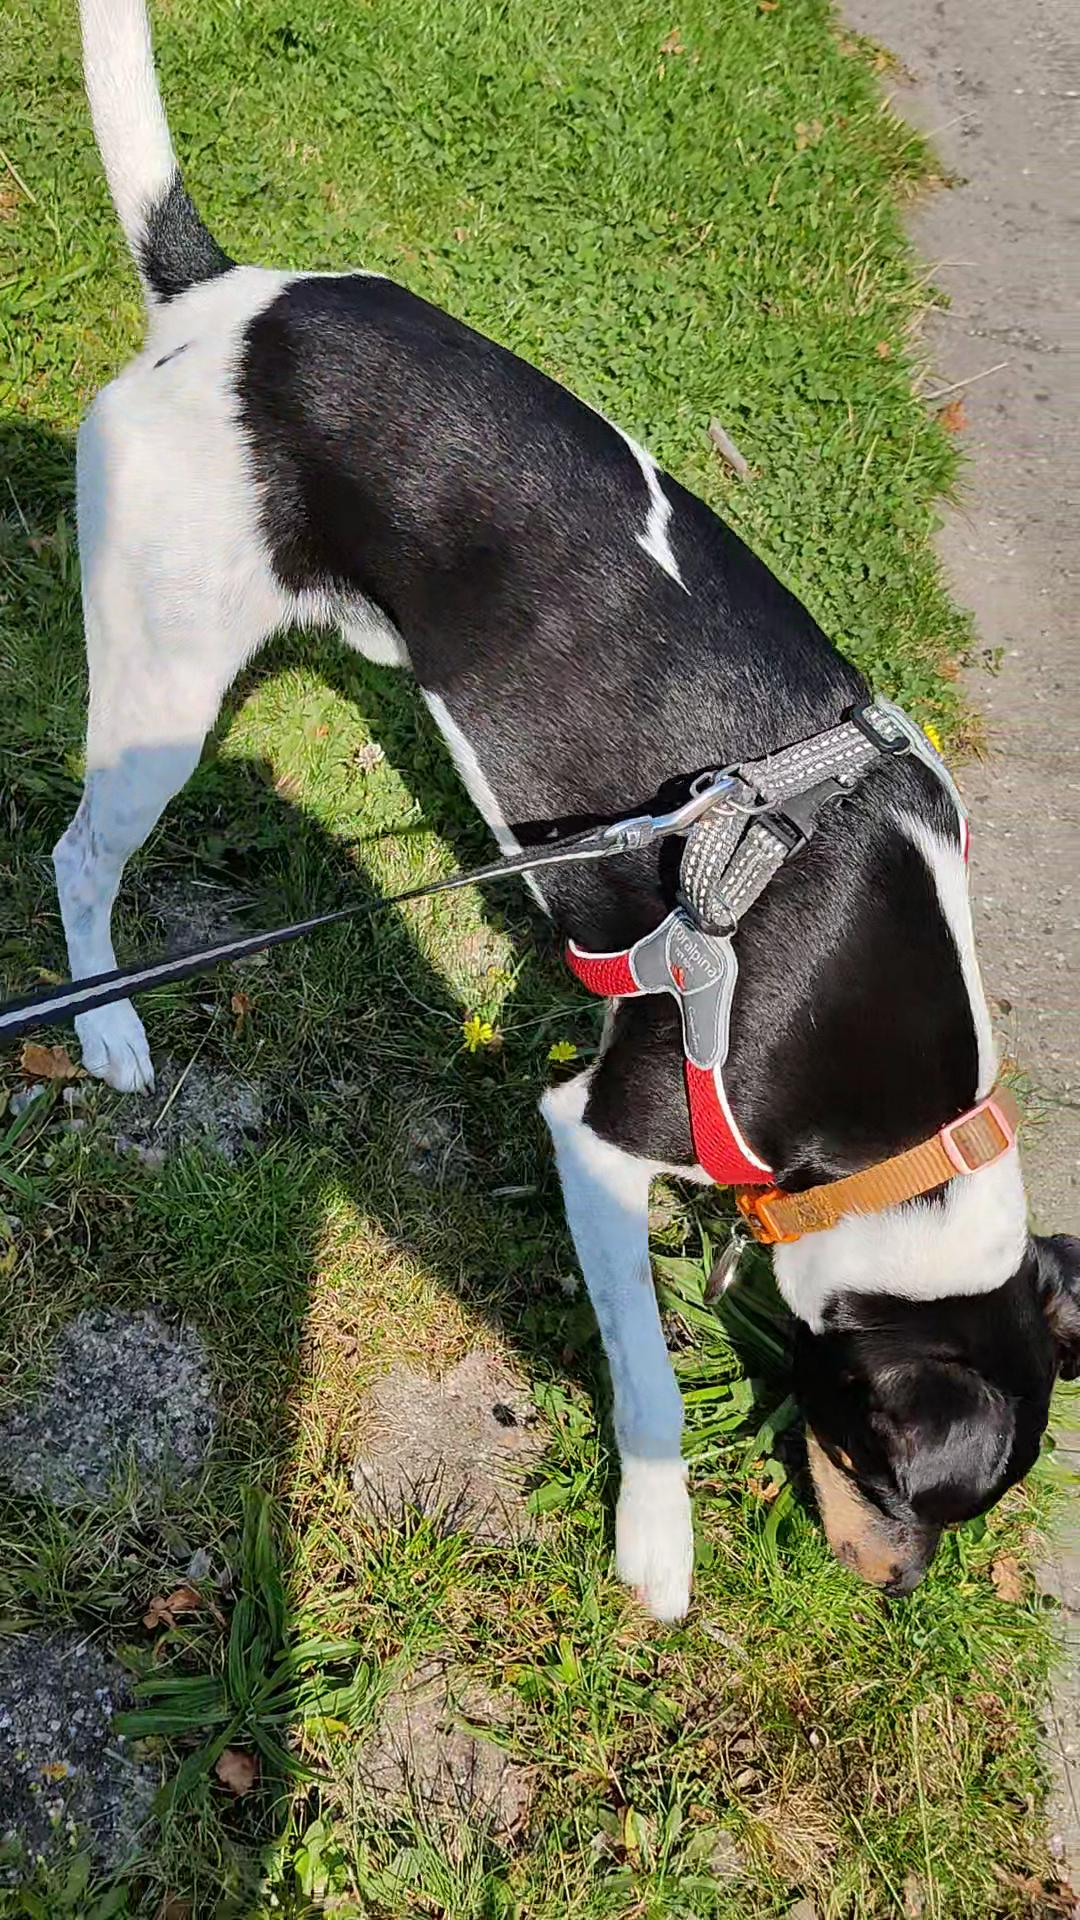Dog: (50, 0, 1079, 1633)
